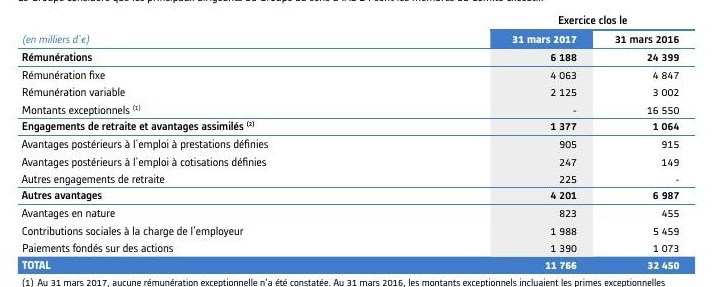table: (0, 0, 714, 287)
